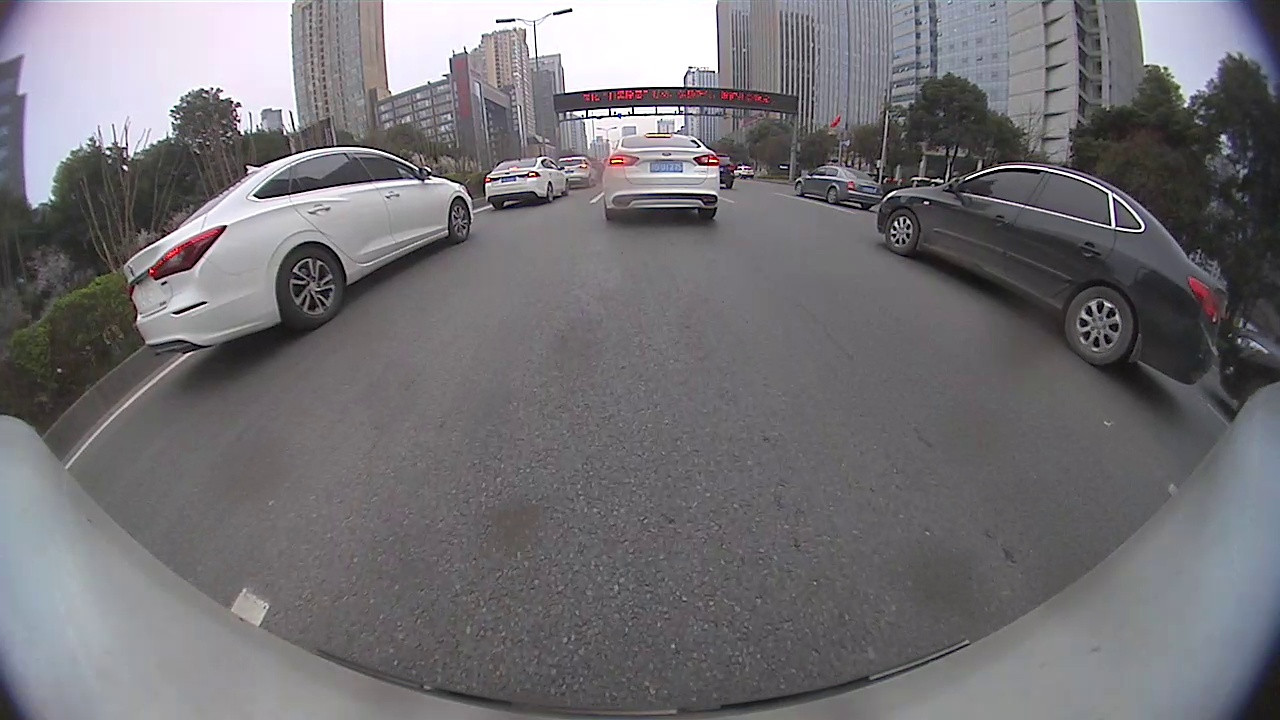car: (876, 159, 1228, 385), (123, 147, 474, 357), (602, 134, 720, 220), (484, 157, 569, 210), (795, 163, 884, 210), (555, 156, 600, 189)
front: (883, 206, 921, 253), (448, 193, 471, 244), (793, 179, 804, 195)
rear: (279, 247, 351, 330), (1066, 283, 1136, 367), (826, 184, 838, 202), (547, 182, 555, 202)
